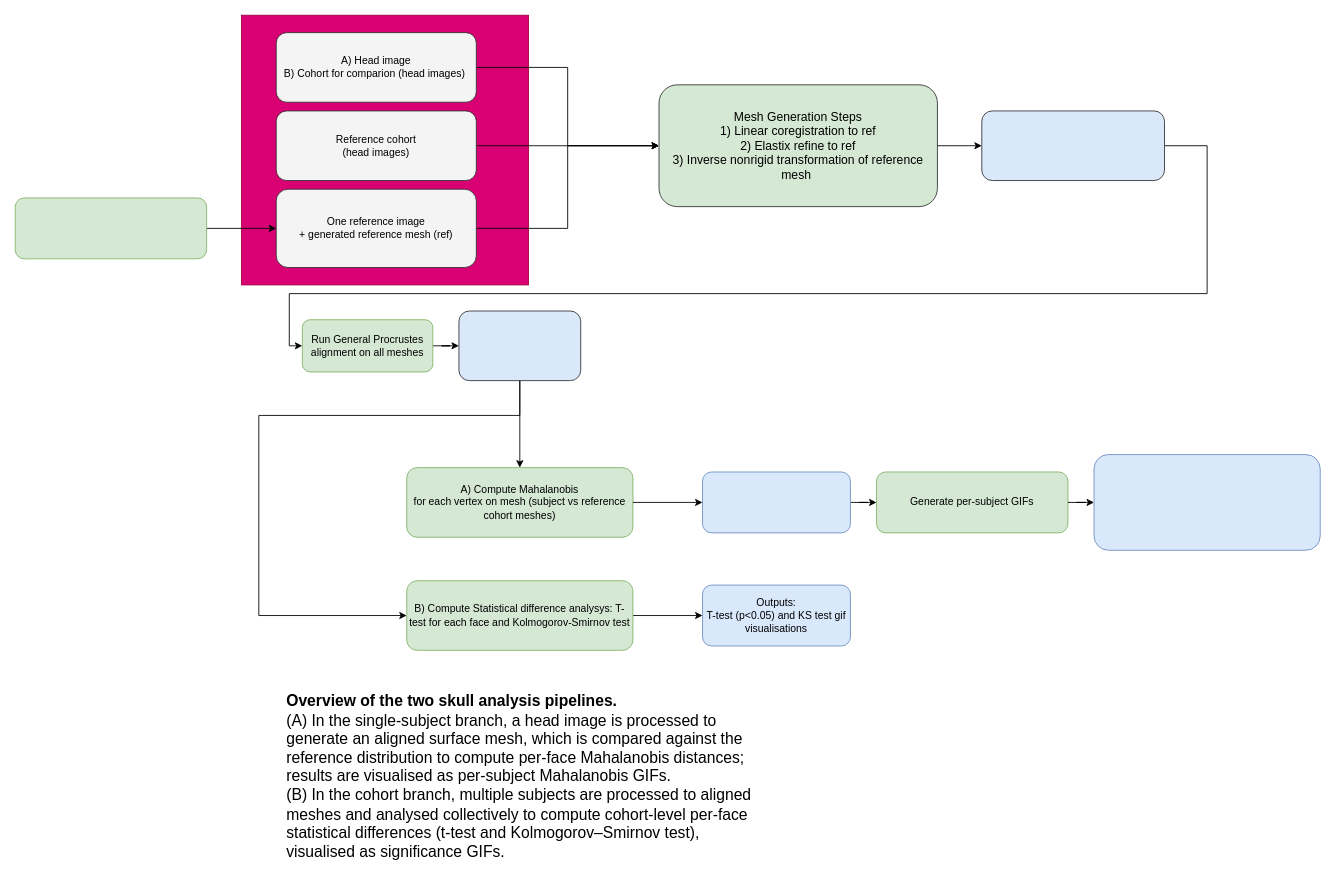
The diagram is 1335 pixels wide and 887 high, and some of its shapes have lost their labels. Each missing label, with the centre of its shape:
Outputs: A) Mesh of head image B) Meshes for cohort 2) Meshes reference cohort: point 1072,145
Outputs: All meshes alligned: point 519,345
Outputs: mahalanobis distances for faces: point 776,502
Outputs: Mahalanobis GIFs: point 1206,502
Selecction of reference mouse and generation of reference mesh: point 110,228
